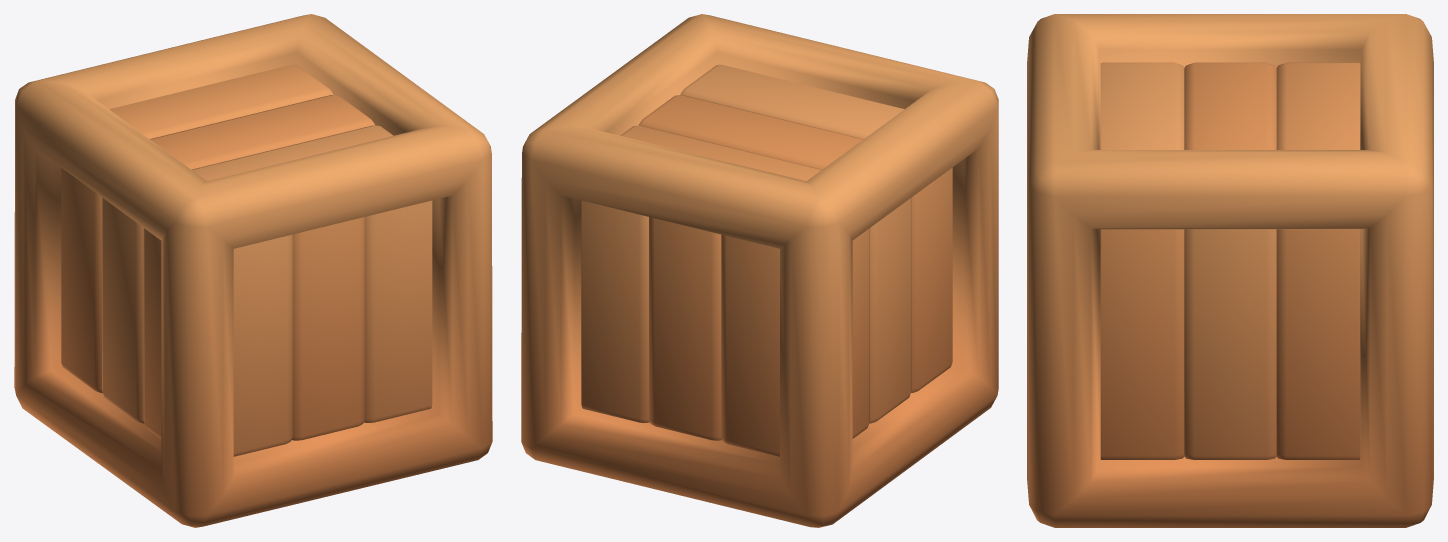
The model's file is crate01.fbx.
The picture shows the model from 3 angles, left to right: view 1: azimuth 30°, elevation 25°; view 2: azimuth 150°, elevation 25°; view 3: azimuth 270°, elevation 25°; orthographic projection. The views are drawn at different scales.
Visible parts, largest first — view 1: crate01; view 2: crate01; view 3: crate01.
Part boxes in pixels (x1=…): crate01: x1=14, y1=14, x2=492, y2=527; crate01: x1=521, y1=14, x2=998, y2=527; crate01: x1=1027, y1=14, x2=1433, y2=527.
Size of the model in its own units: 0.9808 by 0.9808 by 0.9808.
Materials: 1 (1 with a texture image).
